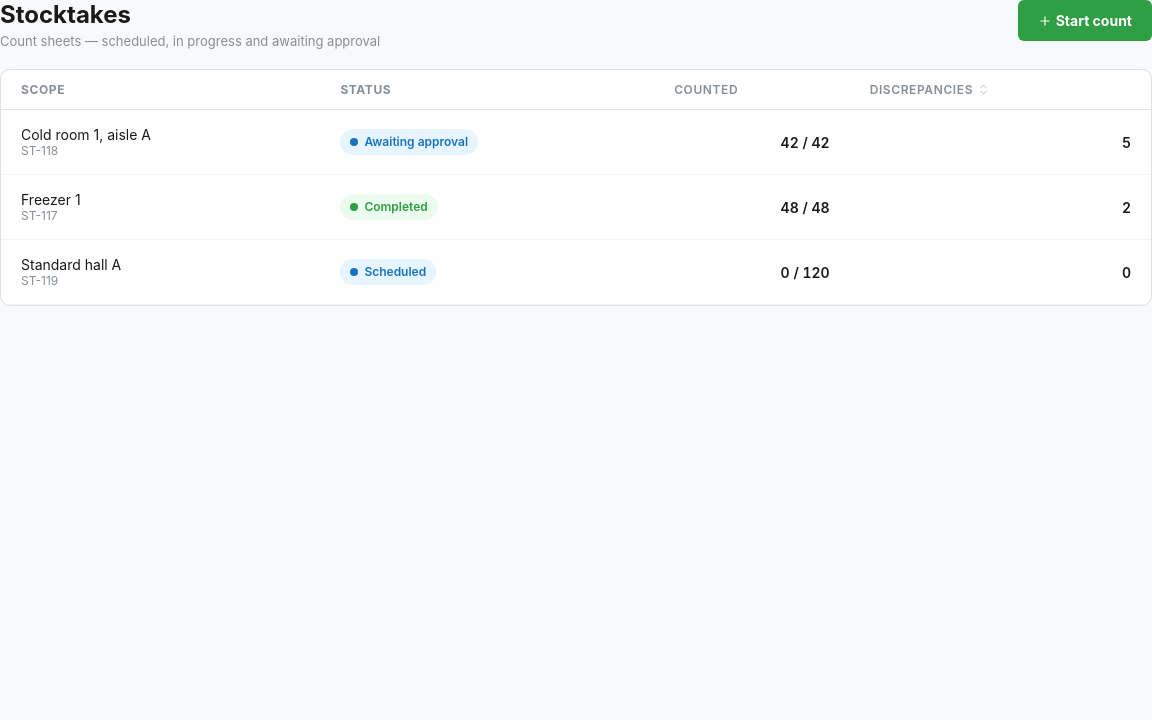
Test: StocktakeListScreen › opens the start-count dialog
Expected: the text "ST-118" is shown, [21, 143, 58, 158]
Click the button "Start count". click: (1085, 20)
box: [1018, 0, 1151, 41]
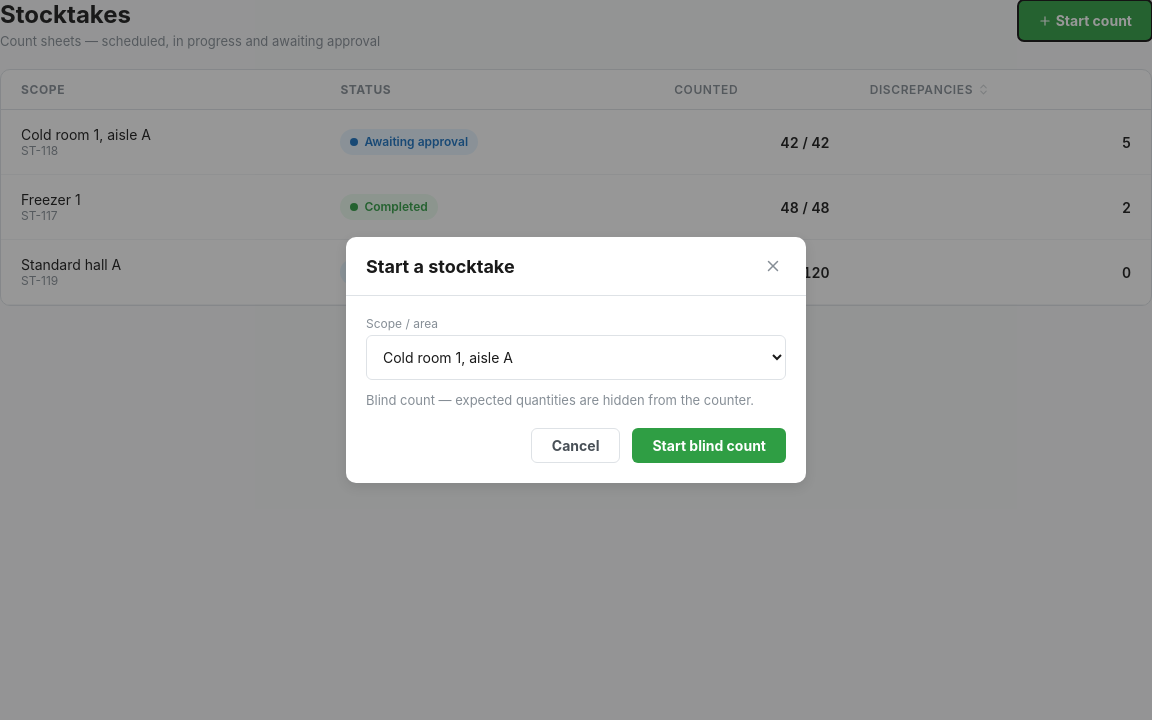
Expected: the heading "Start a stocktake" is shown, [366, 256, 515, 276]
Expected: the button "Start blind count" is shown, [632, 428, 786, 463]
